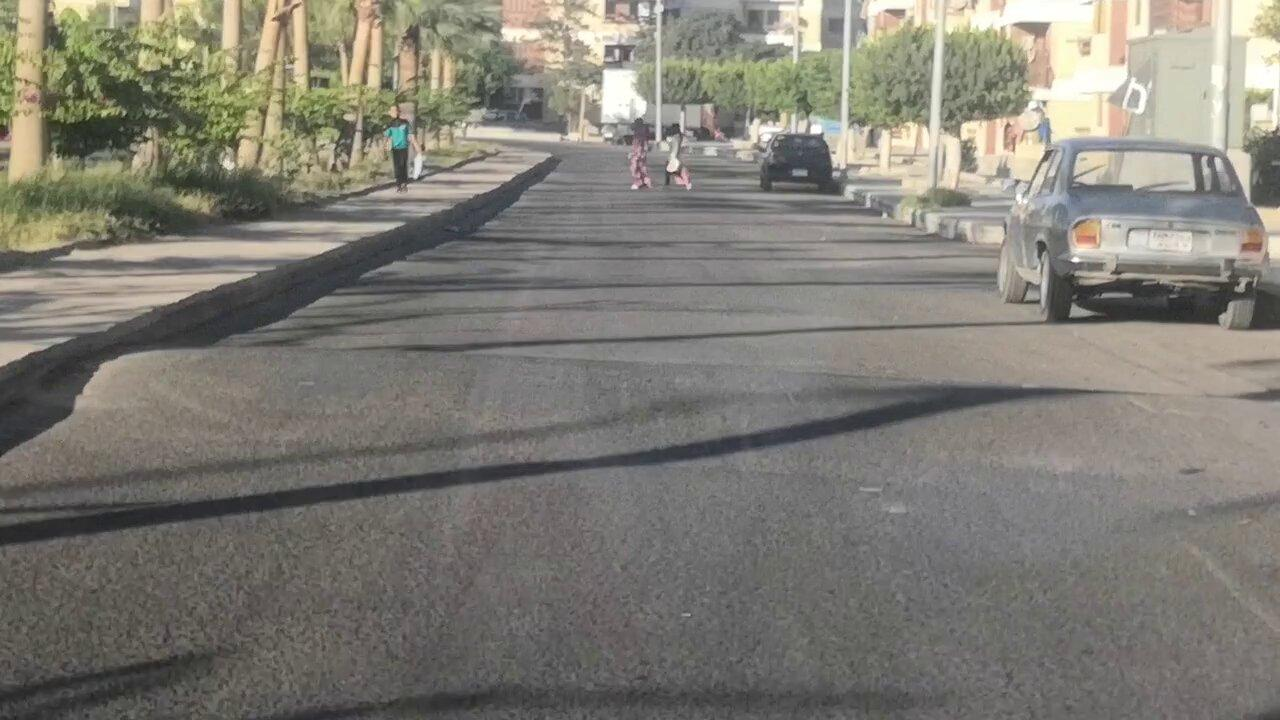Bump: (150, 337, 1278, 480)
